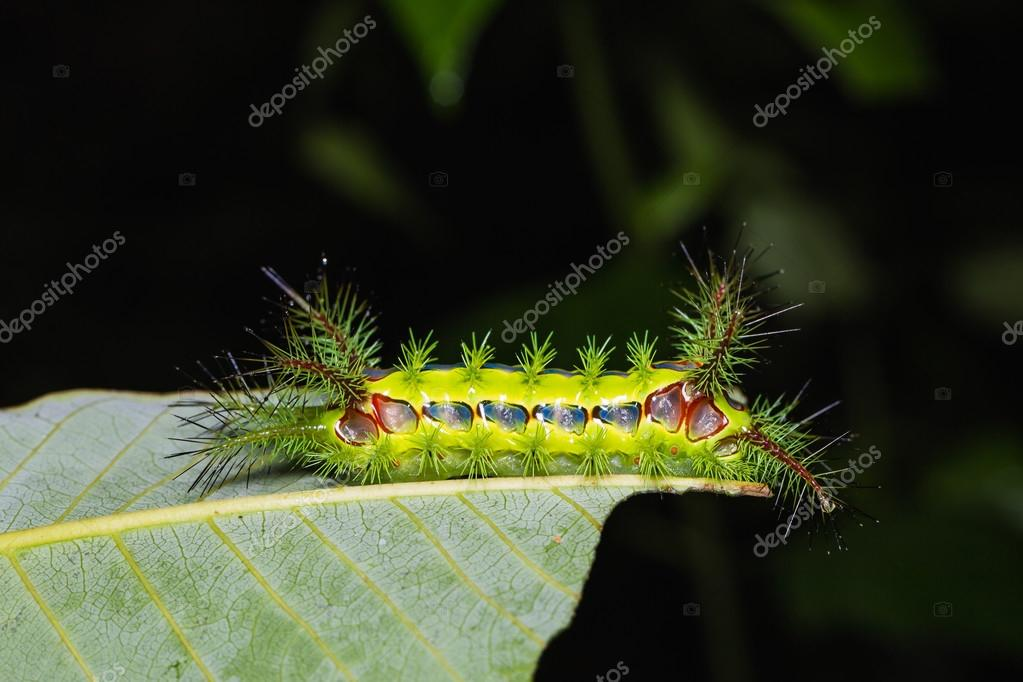Pest! (nettle_caterpillar): (181, 258, 822, 498)
